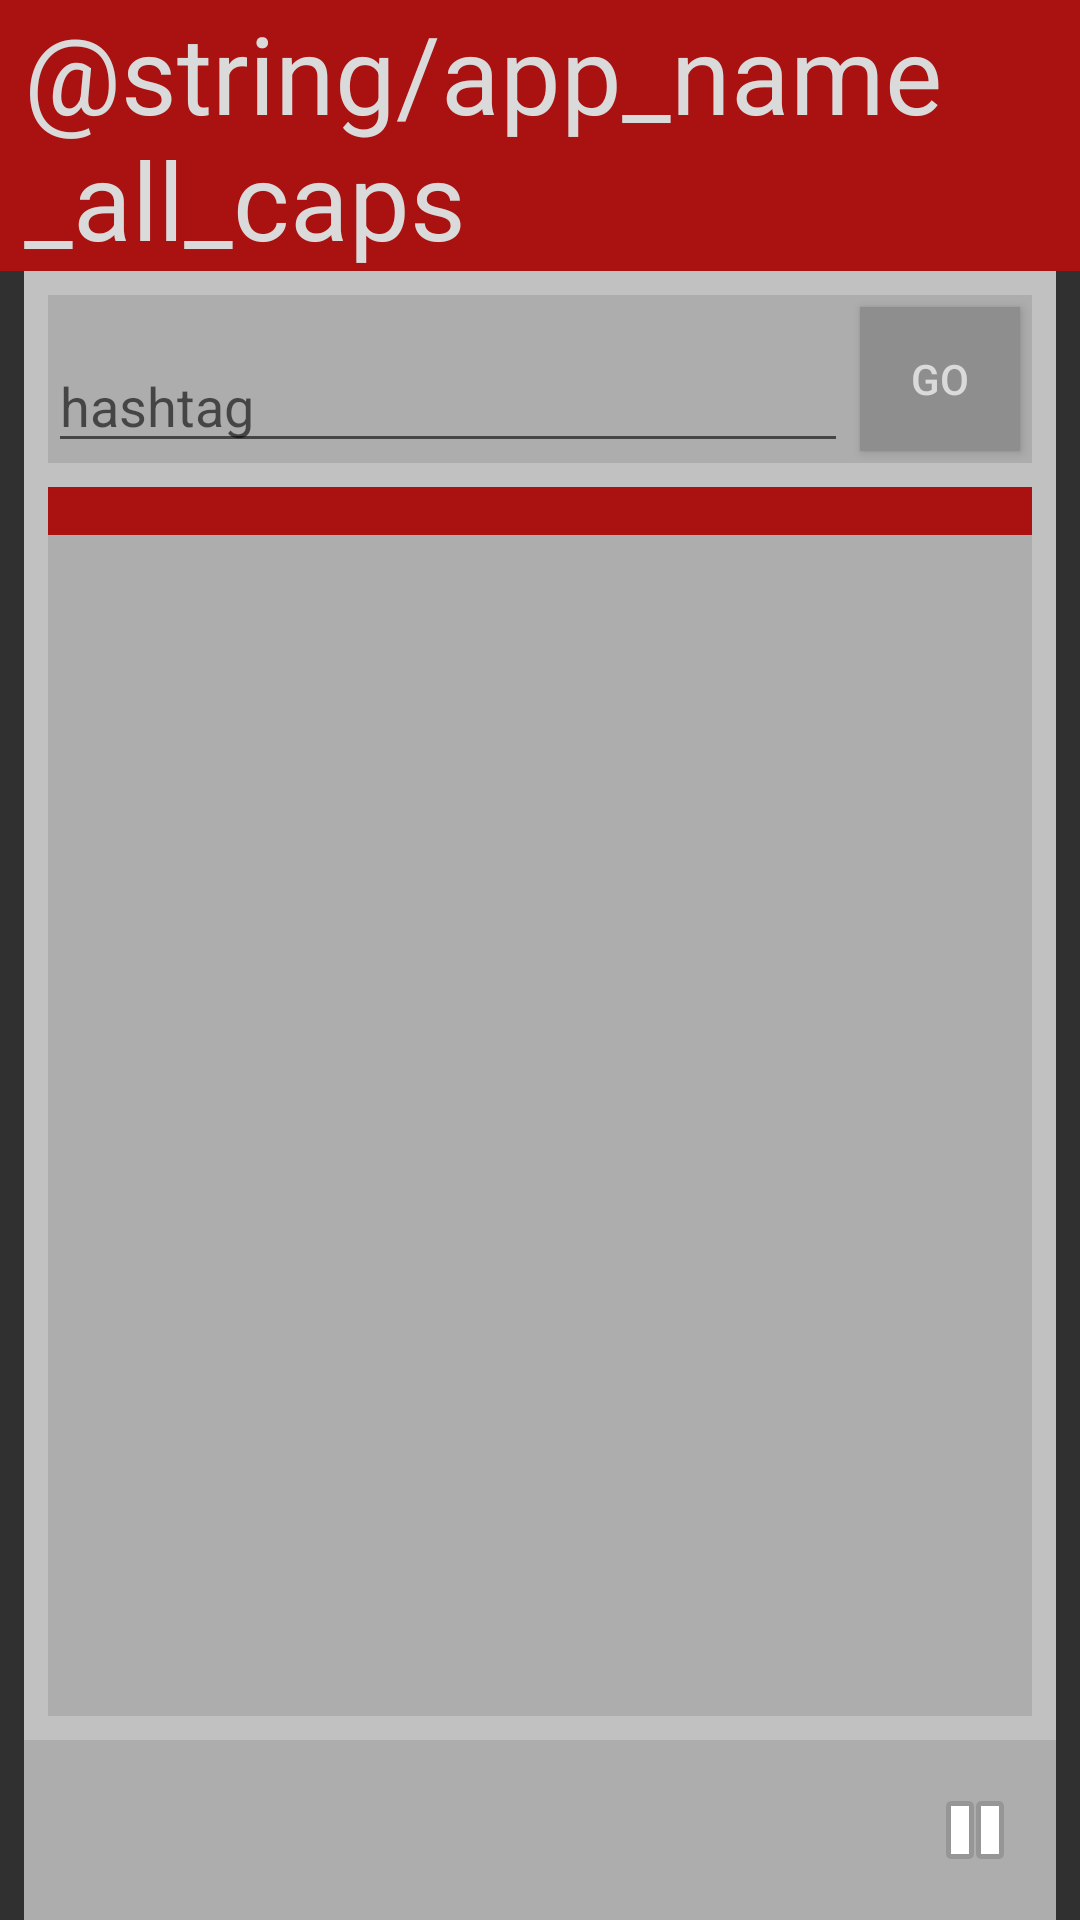

Icons on this 1080w x 1920h Android screen, each with its box as bbox=[x1, y1, x2, y2]:
pause: bbox=[951, 1806, 999, 1854]
